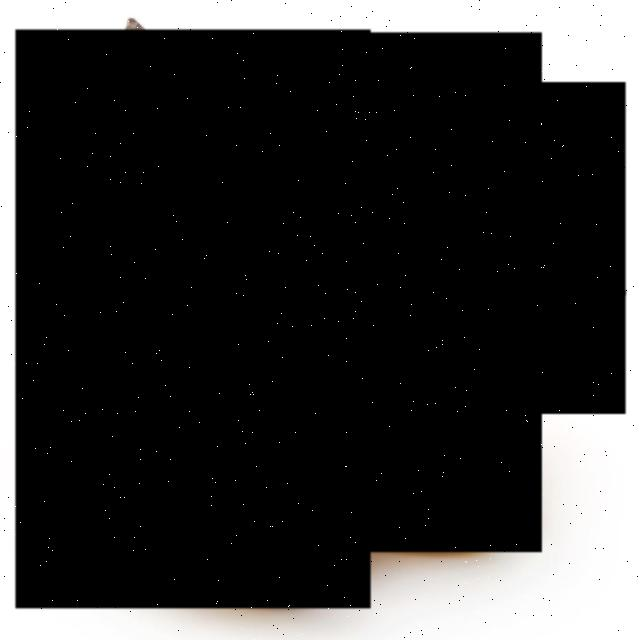Banana: (111, 32, 542, 552), (15, 30, 371, 608), (151, 83, 626, 414)
